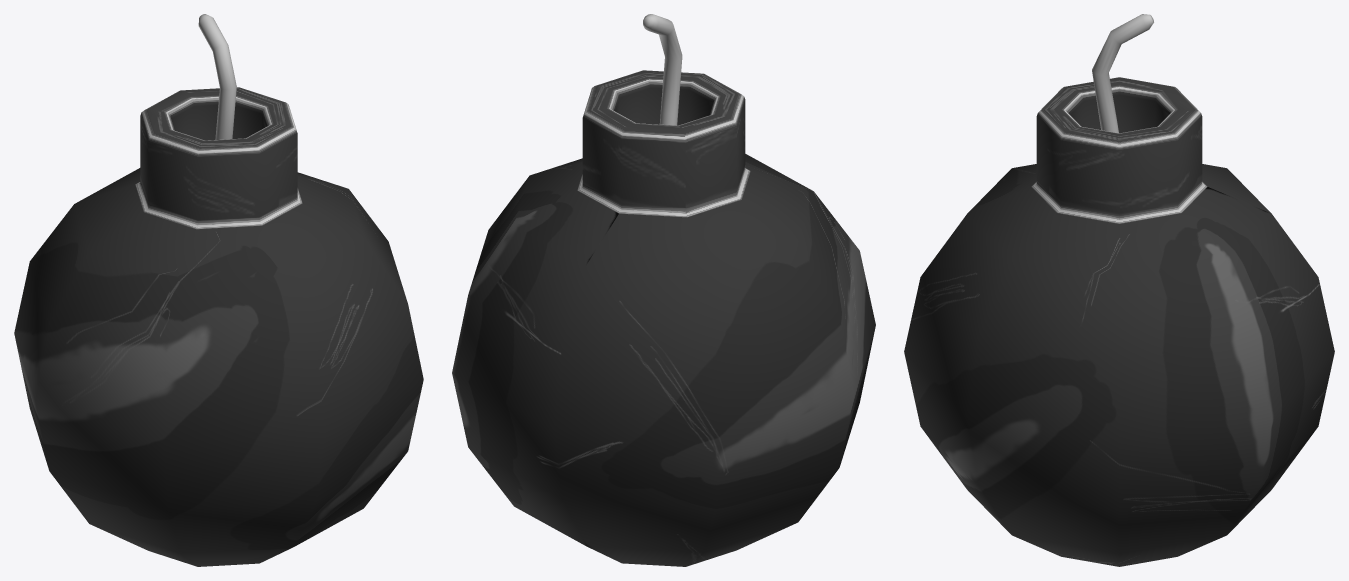
File: Bomb.fbx
3 renders of one model, left to right at view 1: azimuth 30°, elevation 25°; view 2: azimuth 150°, elevation 25°; view 3: azimuth 270°, elevation 25°, orthographic. The views are drawn at different scales.
Parts seen in each view (by area): view 1: Bomb; view 2: Bomb; view 3: Bomb.
Boxes of the visible parts, x1=… form: Bomb: x1=14, y1=14, x2=423, y2=566; Bomb: x1=452, y1=14, x2=875, y2=566; Bomb: x1=904, y1=14, x2=1334, y2=566.
Bounding box in the file's own units: 100 × 100 × 136.
1 material, 1 textured.
